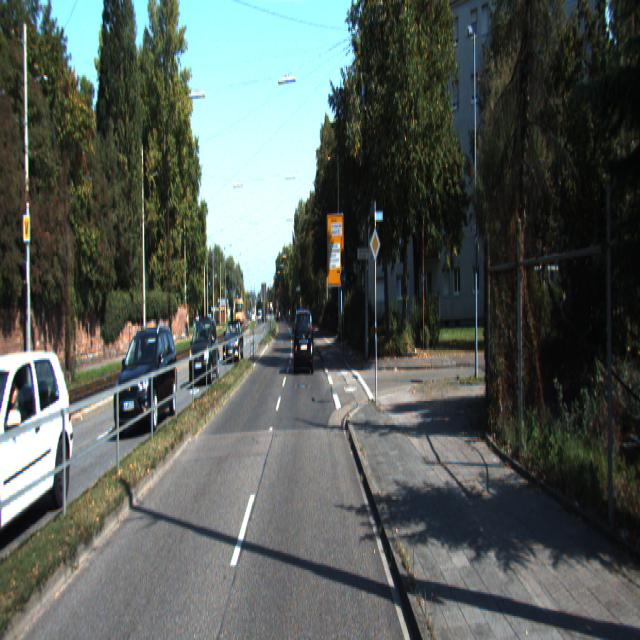Car: (0, 339, 77, 555), (114, 325, 178, 443), (188, 314, 220, 386), (294, 306, 315, 375), (222, 321, 244, 365)
